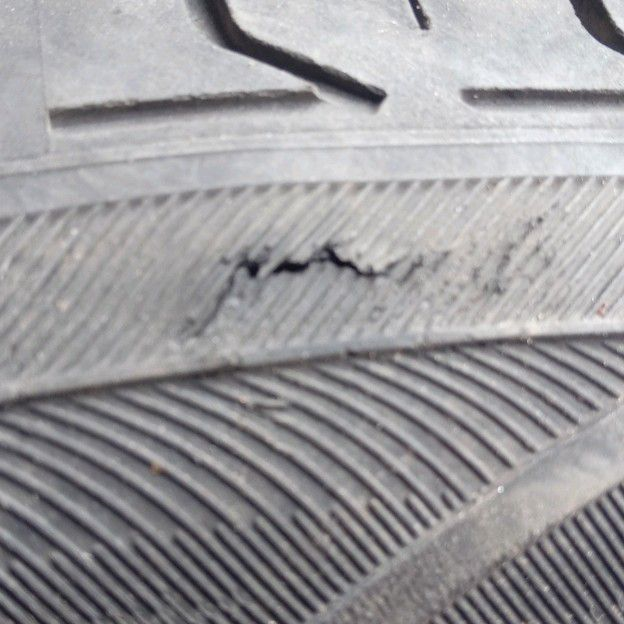cut: (186, 242, 430, 342)
